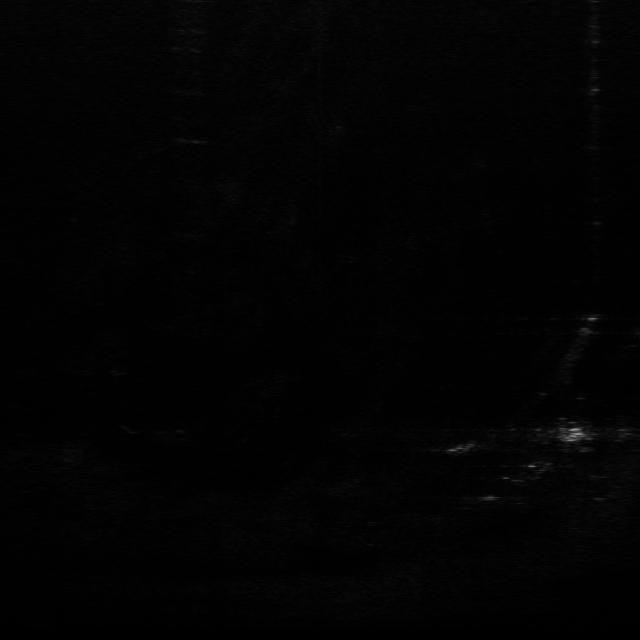rov: (558, 424, 587, 445)
